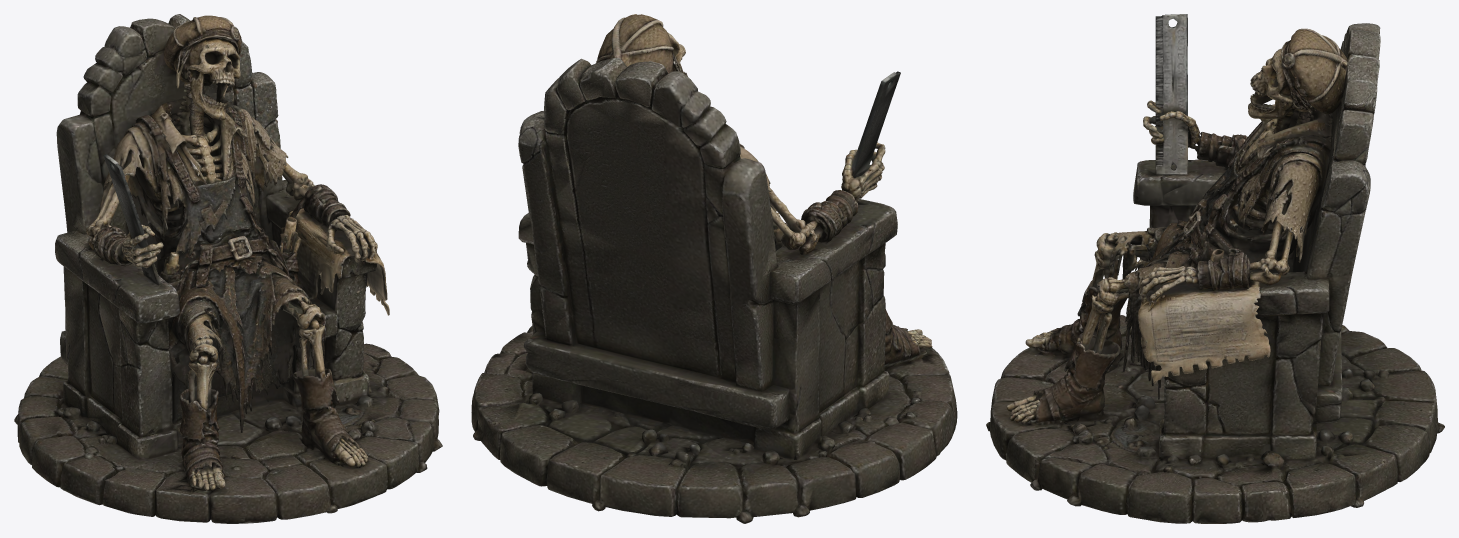
Rendered from artimus-builder-of-the-keep.glb.
3 renders of one model, left to right at view 1: azimuth 30°, elevation 25°; view 2: azimuth 150°, elevation 25°; view 3: azimuth 270°, elevation 25°, orthographic. The views are drawn at different scales.
Visible parts, largest first — view 1: tripo_node_c7de6bd5-02ae-460d-b4ca-412dcb543ee9; view 2: tripo_node_c7de6bd5-02ae-460d-b4ca-412dcb543ee9; view 3: tripo_node_c7de6bd5-02ae-460d-b4ca-412dcb543ee9.
Boxes of the visible parts, bbox=[...] form: tripo_node_c7de6bd5-02ae-460d-b4ca-412dcb543ee9: bbox=[14, 14, 442, 523]; tripo_node_c7de6bd5-02ae-460d-b4ca-412dcb543ee9: bbox=[471, 14, 957, 523]; tripo_node_c7de6bd5-02ae-460d-b4ca-412dcb543ee9: bbox=[986, 14, 1444, 523].
Bounding box in the file's own units: 0.9733 × 0.9676 × 0.981.
1 material, 1 textured.
